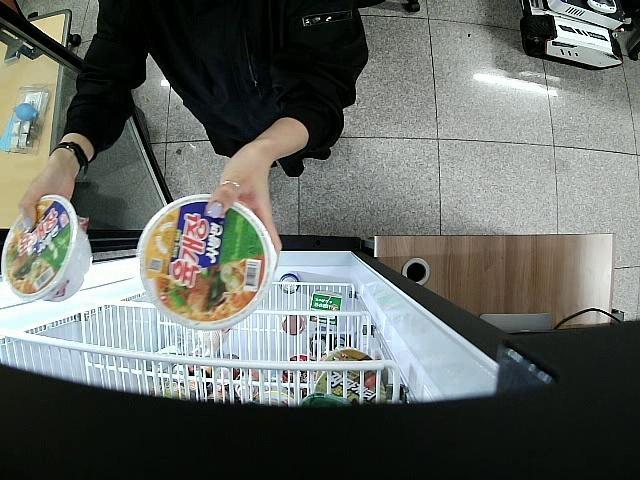09_yukGaeJang: (136, 194, 275, 332), (2, 195, 92, 304)
